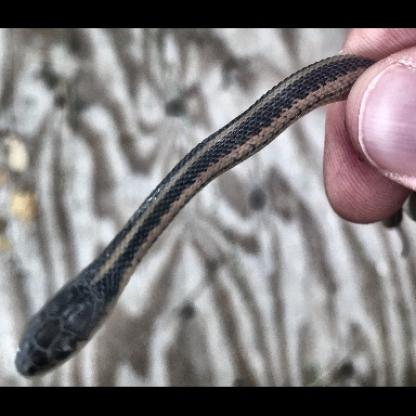Snake: (3, 255, 148, 378)
